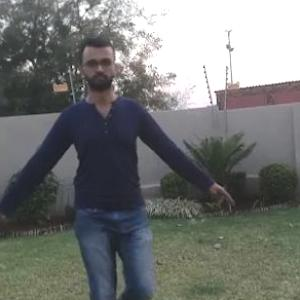land: (1, 64, 211, 299)
